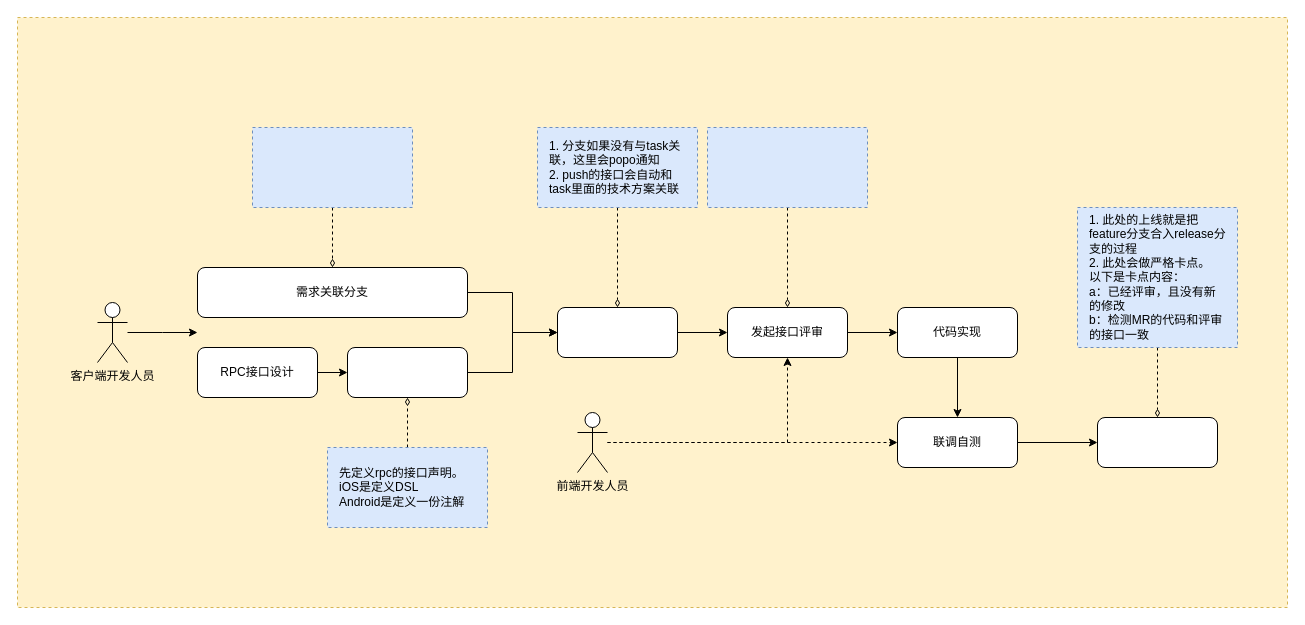
The diagram is 1305 pixels wide and 625 high, and some of its shapes have lost their labels. The shapes that lost their labels are listed below. From the top down, each one's centre as x and y in pixels, then its label:
At [332,167]: "在Overmind的task上面把我们开发的分支与之关联".
At [787,167]: "1. 在Overmind的task的技术方案中发起接口评审 2. 如果分支没有关联task，还需要先把接口与技术方案手动关联".
At [617,332]: "push代码到git".
At [407,372]: "代码声明".
At [1157,442]: "上线".
